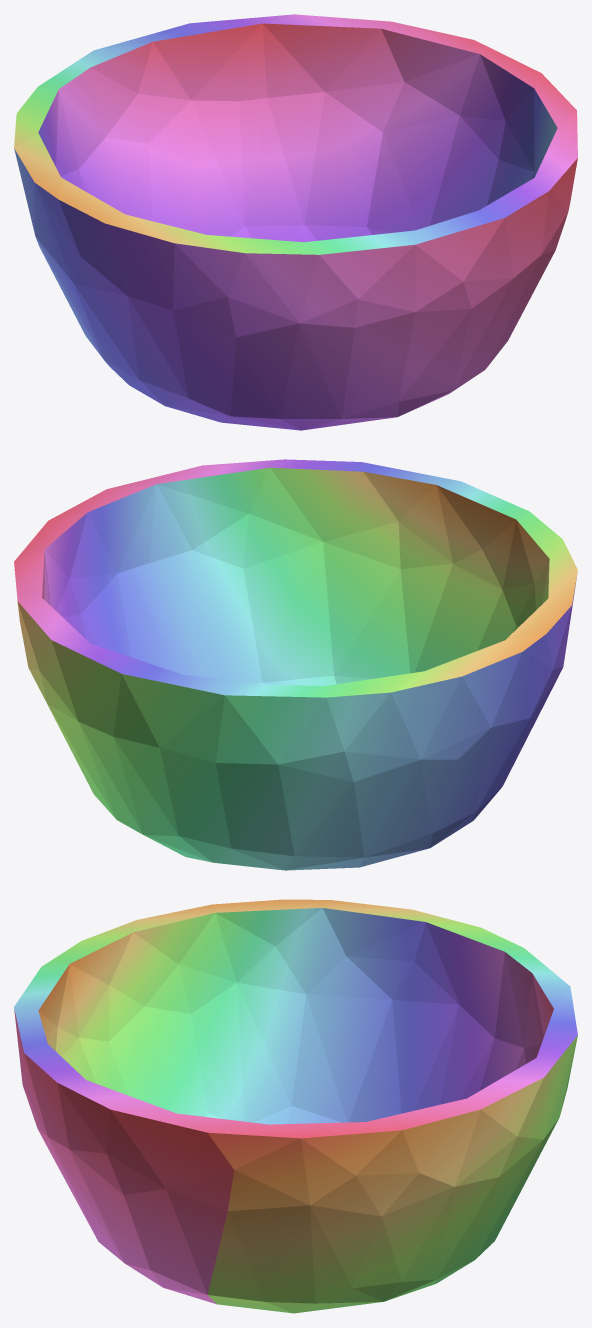
File: fruit bowl 1 textured.fbx
The picture shows the model from 3 angles, top to bottom: view 1: azimuth 30°, elevation 25°; view 2: azimuth 150°, elevation 25°; view 3: azimuth 270°, elevation 25°; orthographic projection.
Parts seen in each view (by area): view 1: Bowl; view 2: Bowl; view 3: Bowl.
Boxes of the visible parts, x1=… form: Bowl: x1=14, y1=14, x2=577, y2=430; Bowl: x1=14, y1=459, x2=577, y2=870; Bowl: x1=14, y1=899, x2=577, y2=1313.
Bounding box in the file's own units: 772 × 339 × 770.
